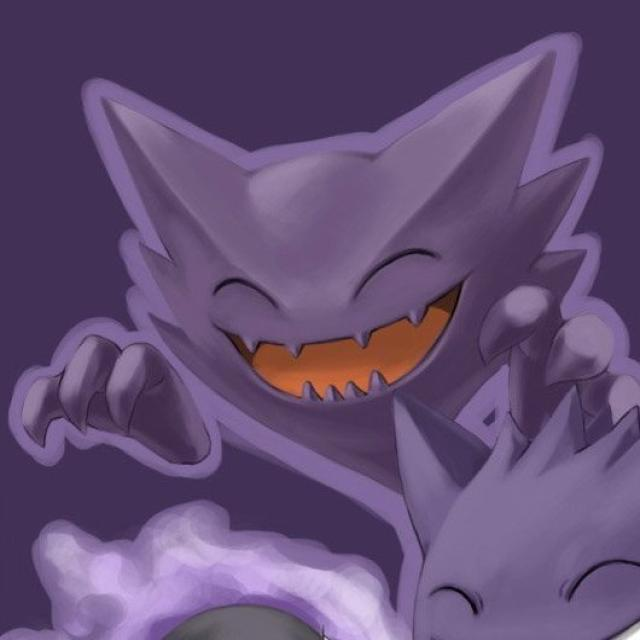Haunter: (31, 64, 640, 467)
